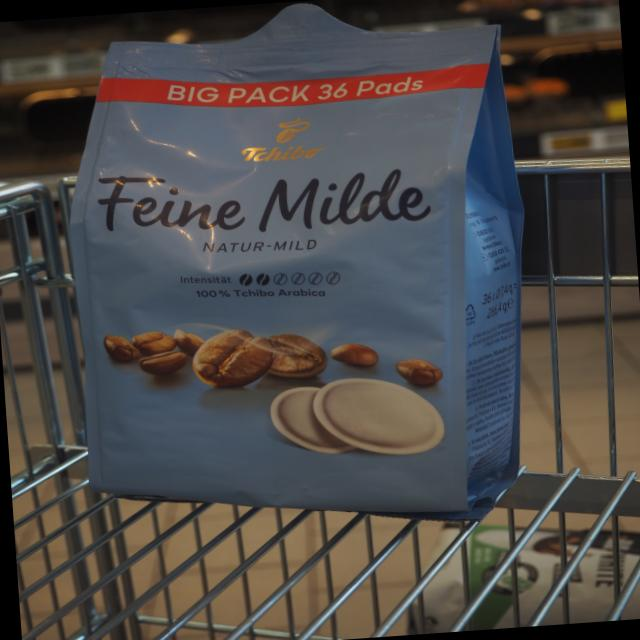FM 36 Pads: (43, 0, 551, 556)
